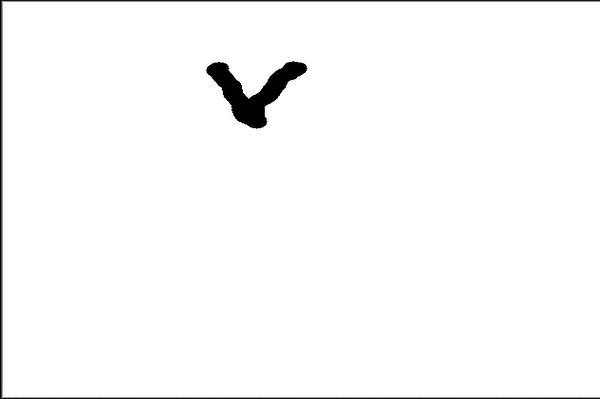V: (198, 49, 313, 132)
